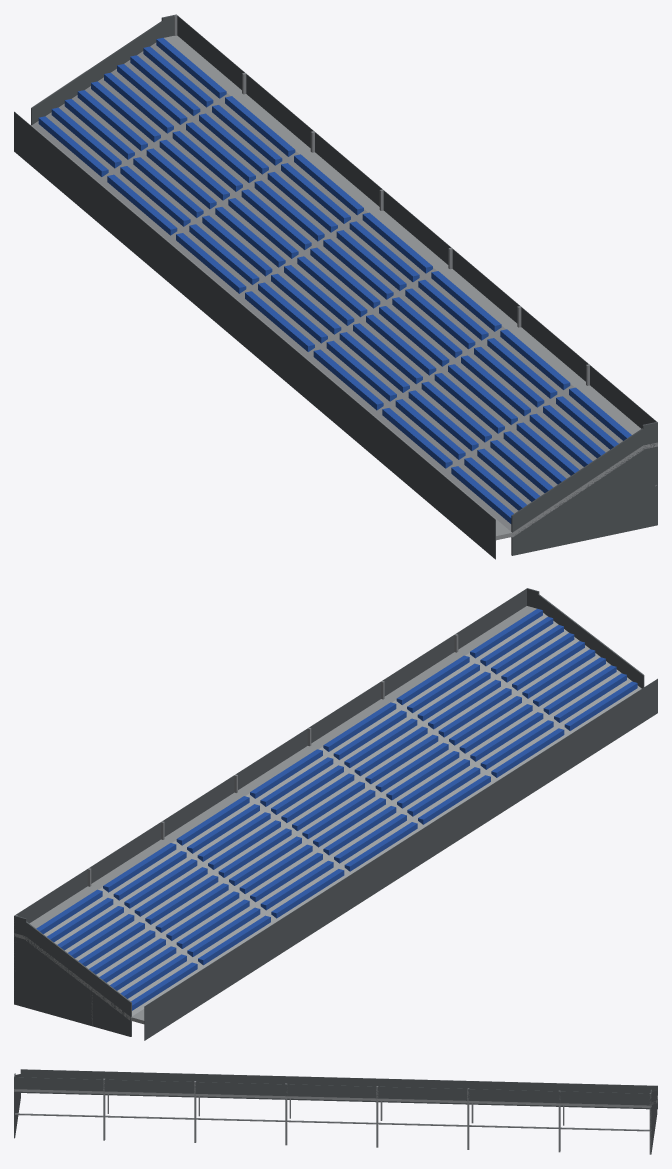
File: mza_stand_parabolica_int_a.glb
The picture shows the model from 3 angles, top to bottom: view 1: azimuth 30°, elevation 25°; view 2: azimuth 150°, elevation 25°; view 3: azimuth 270°, elevation 25°; orthographic projection. The views are drawn at different scales.
Parts seen in each view (by area): view 1: monza-parabolica-int-a; view 2: monza-parabolica-int-a; view 3: monza-parabolica-int-a.
Part boxes in pixels (x1,y1,x2,y2): monza-parabolica-int-a: (14,14,657,559); monza-parabolica-int-a: (14,588,657,1040); monza-parabolica-int-a: (14,1069,657,1154).
Bounding box in the file's own units: 13.51 × 6.2 × 59.49.
